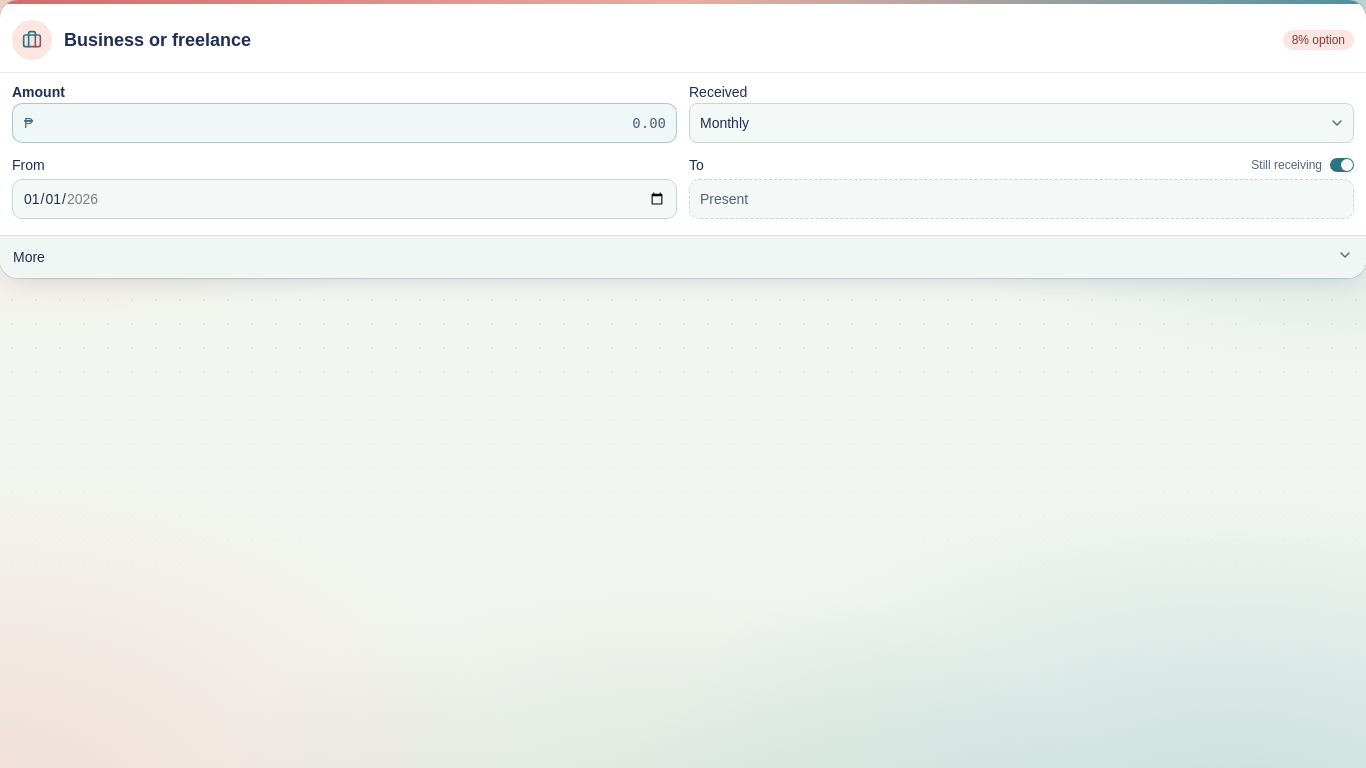
Scenario: BusinessSection: the More tray › is there with the 8% option too
The width and height of the screenshot is (1366, 768).
What coordinates should you click on to do the following:
click the button "More"
I would click on:
 (29, 257)
Its box is [12, 236, 1354, 278].
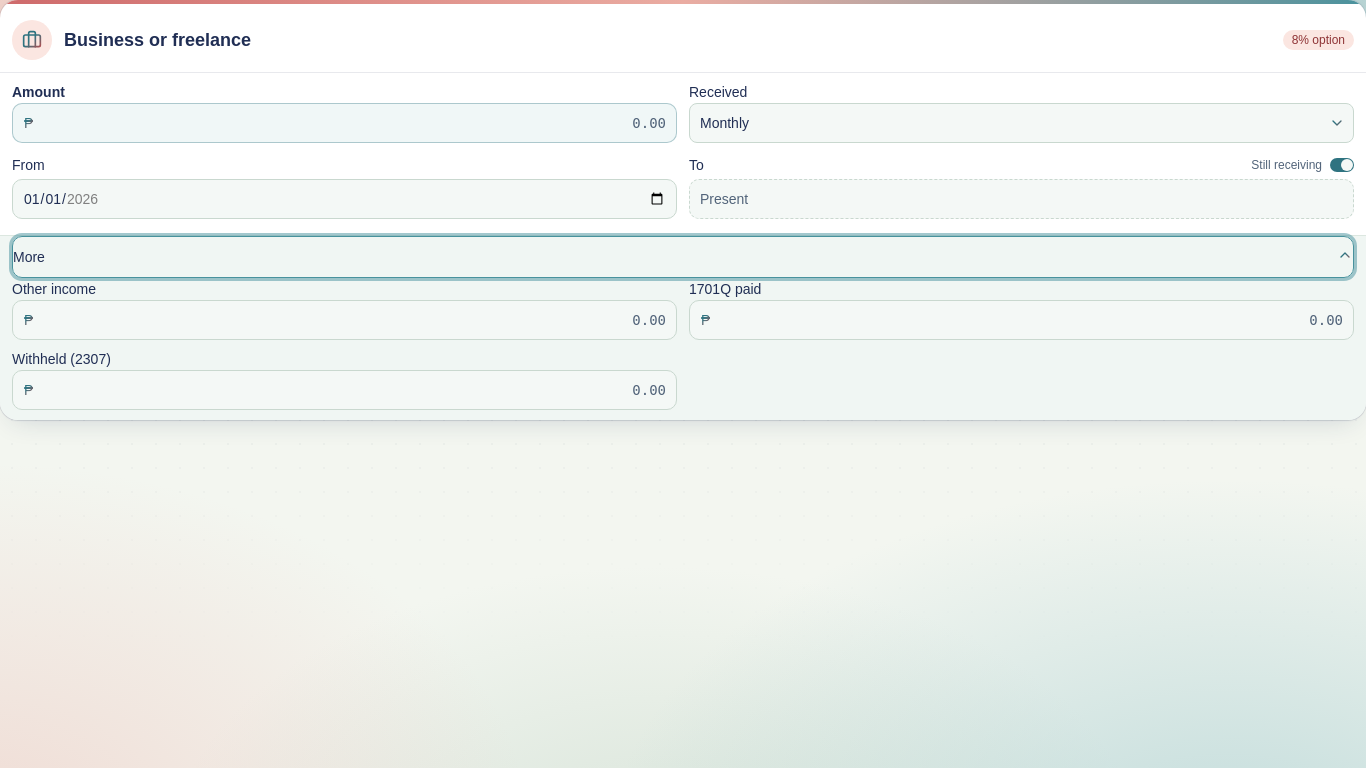
Now the field labelled "Other income" is shown, box [12, 300, 677, 340]
